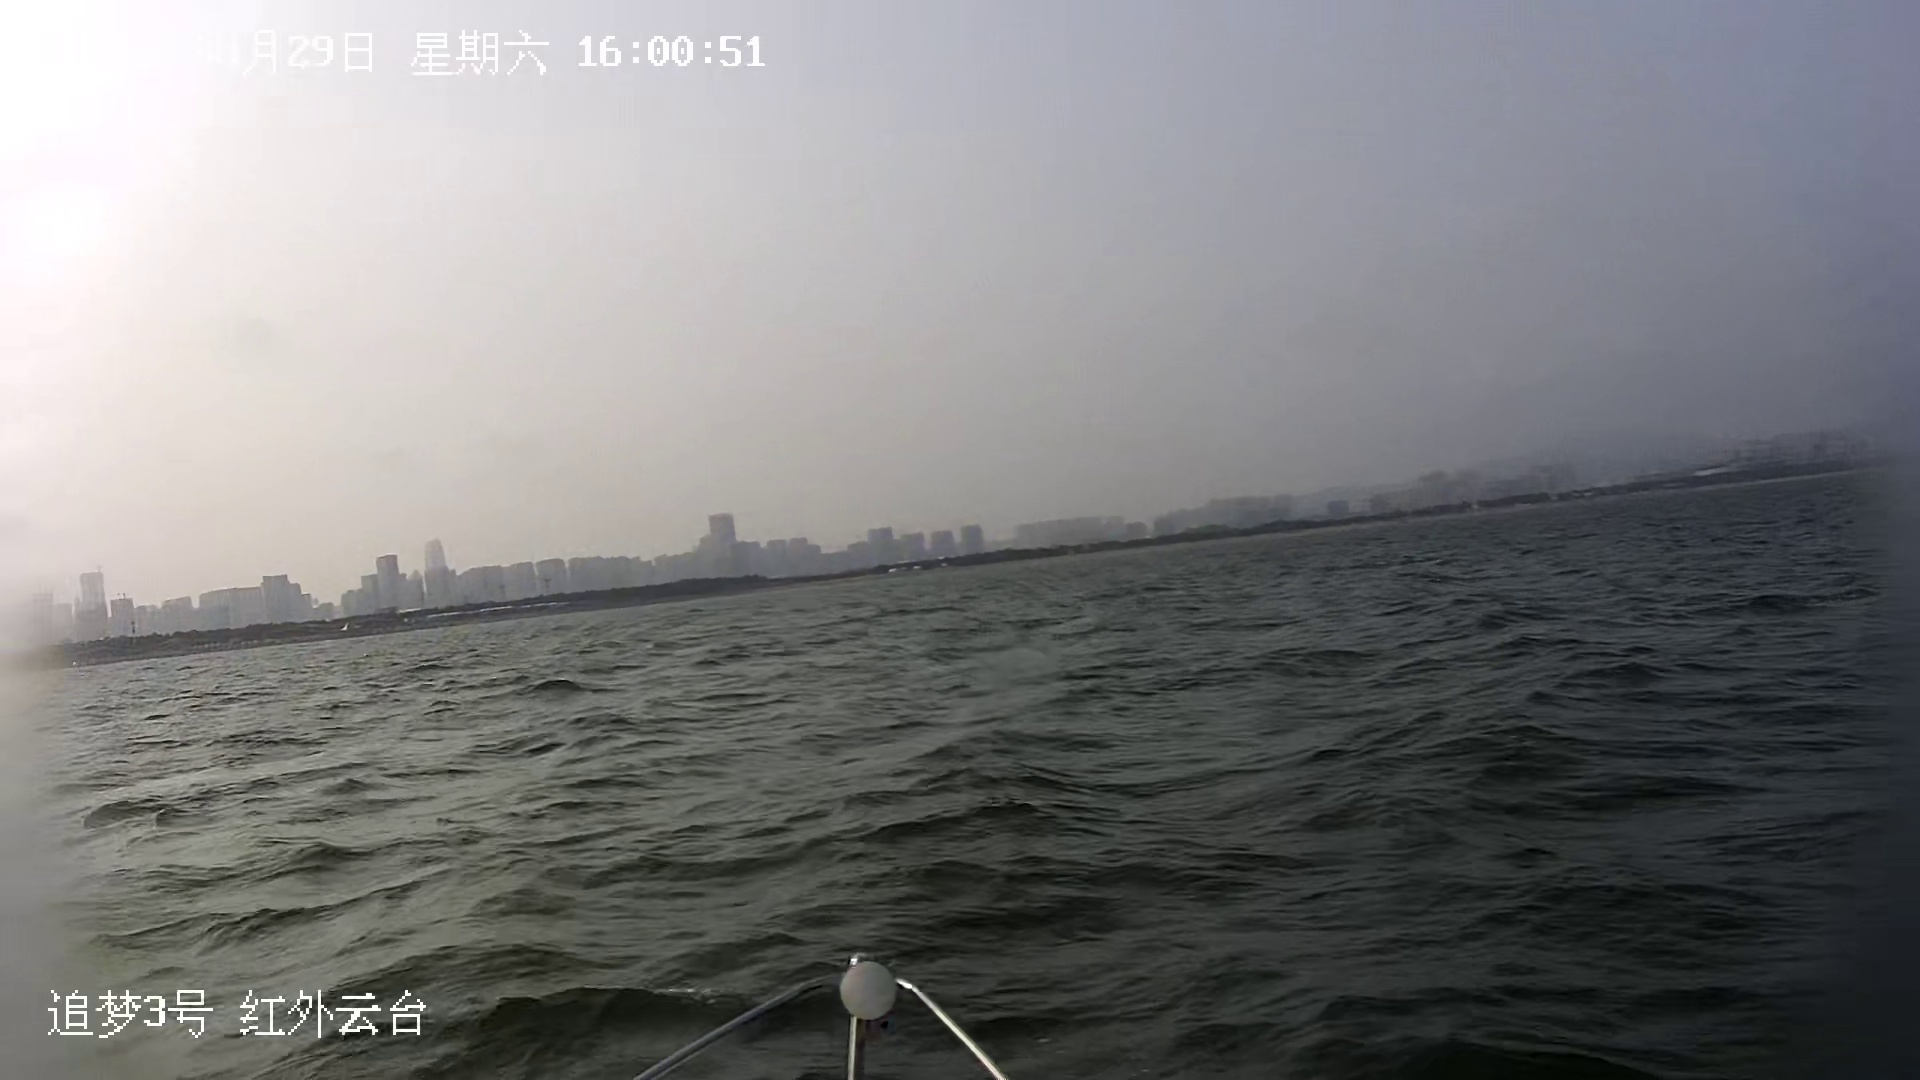coast: (1, 433, 1913, 651)
